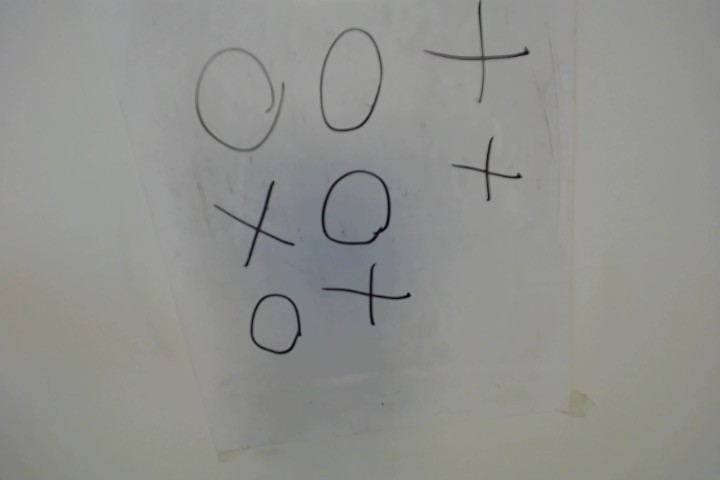0: (194, 45, 288, 155), (316, 26, 384, 140), (320, 165, 393, 249), (244, 292, 306, 357)
x: (429, 7, 532, 107), (210, 180, 298, 271), (325, 266, 413, 330), (454, 139, 526, 204)
